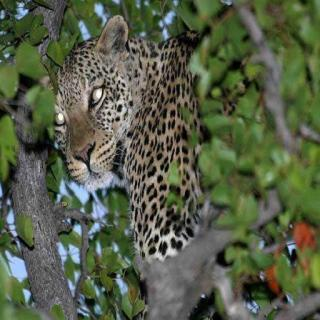Leopard: (51, 12, 232, 294)
